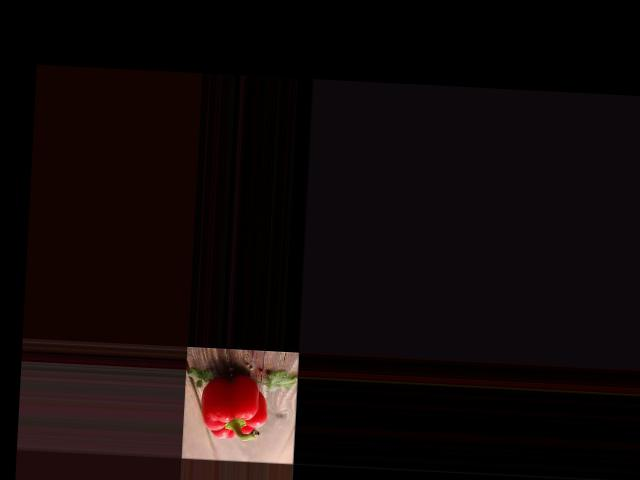bell_pepper: (195, 371, 272, 446)
